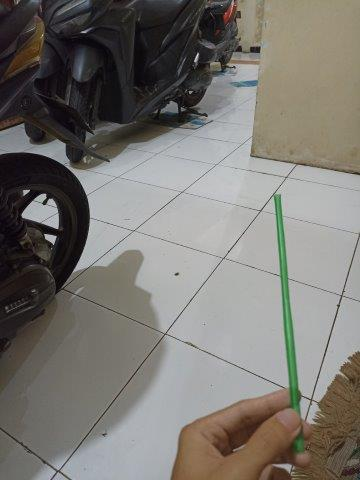sedotan: (274, 195, 303, 451)
